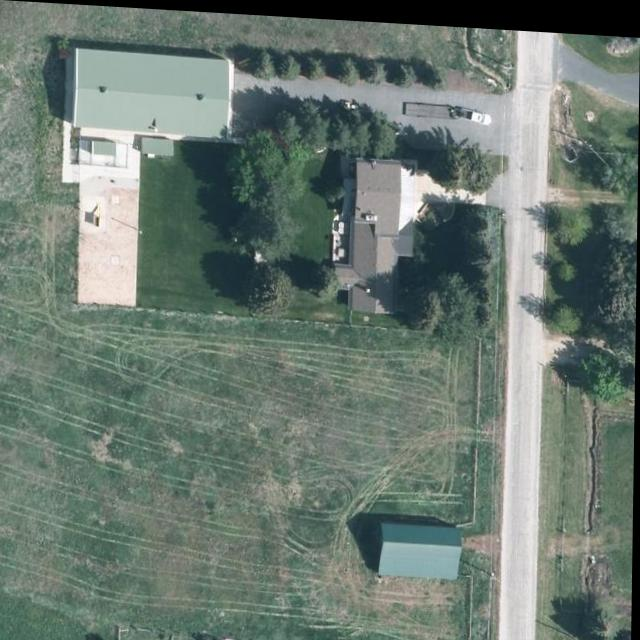vehicle: (459, 102, 494, 122)
